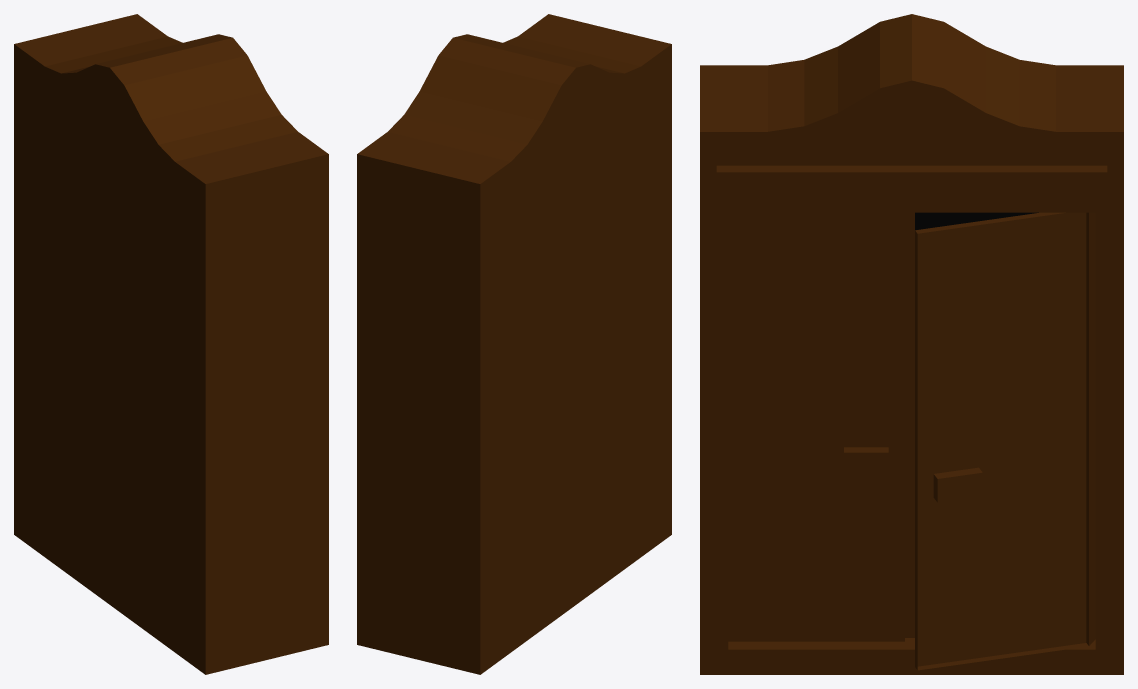
The model's file is OPEN DRAWER.fbx.
3 renders of one model, left to right at view 1: azimuth 30°, elevation 25°; view 2: azimuth 150°, elevation 25°; view 3: azimuth 270°, elevation 25°, orthographic. The views are drawn at different scales.
Visible parts, largest first — view 1: Cube.004; view 2: Cube.004; view 3: Cube.004.
Part boxes in pixels (<box>): Cube.004: <box>14,14,328,674</box>; Cube.004: <box>357,14,671,674</box>; Cube.004: <box>700,14,1123,674</box>.
Size of the model in its own units: 408 by 1252 by 809.
